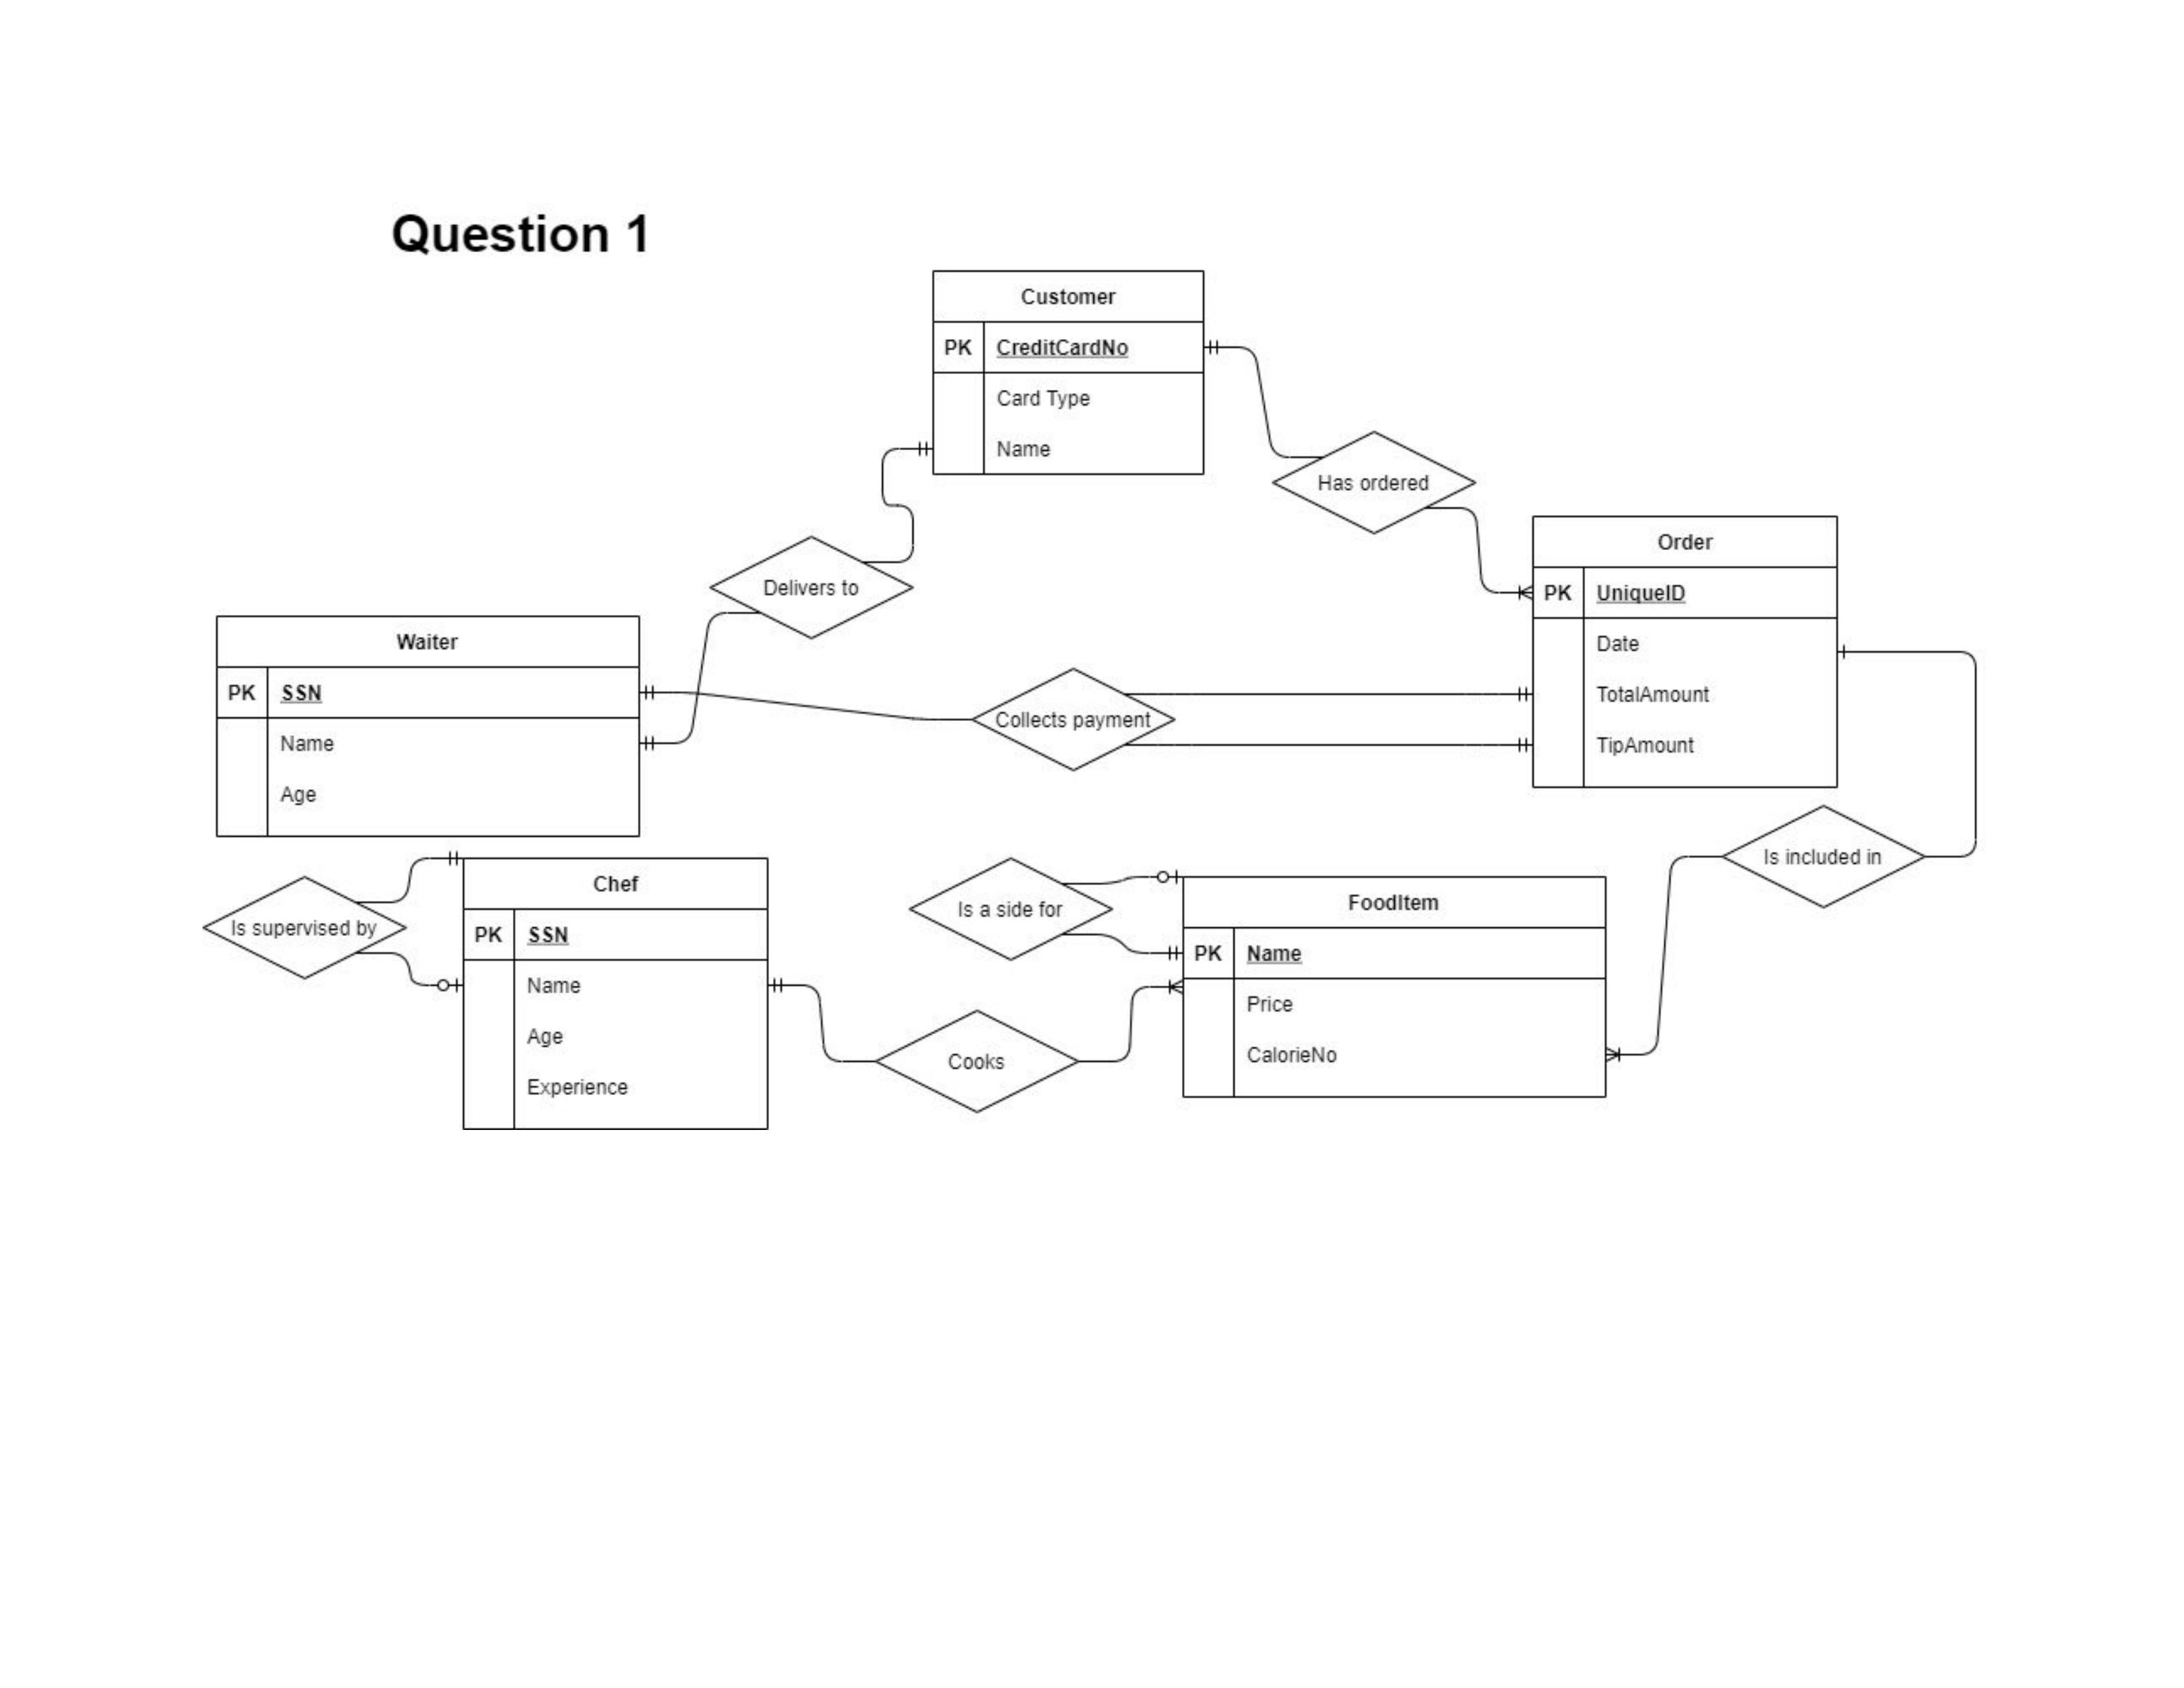Attribute: (200, 872, 408, 988)
Entity: (1163, 864, 1627, 1114), (202, 612, 647, 840), (447, 853, 782, 1142), (1521, 504, 1849, 794), (924, 259, 1214, 486)
Relationship: (1267, 422, 1487, 543), (1718, 800, 1930, 917), (973, 661, 1179, 780), (711, 532, 918, 649), (904, 856, 1122, 965), (872, 1005, 1081, 1115)
